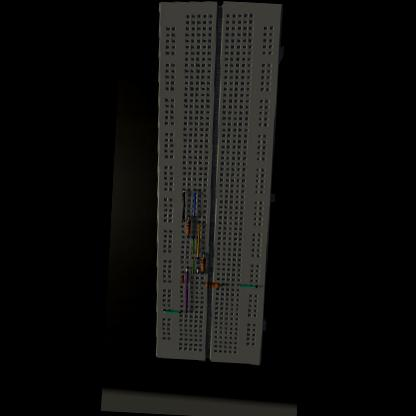breadboard: (139, 0, 285, 364)
resistor: (184, 220, 190, 234), (204, 282, 218, 287), (200, 257, 204, 271)
wire: (182, 266, 187, 312), (180, 188, 184, 220), (196, 221, 199, 258), (162, 308, 180, 314), (191, 190, 195, 216), (236, 284, 256, 288), (190, 256, 192, 274), (179, 271, 182, 282), (190, 236, 192, 252), (218, 282, 222, 284), (200, 282, 204, 284), (196, 267, 197, 274), (201, 251, 202, 256), (187, 215, 188, 219), (201, 271, 202, 273), (187, 234, 188, 236)
